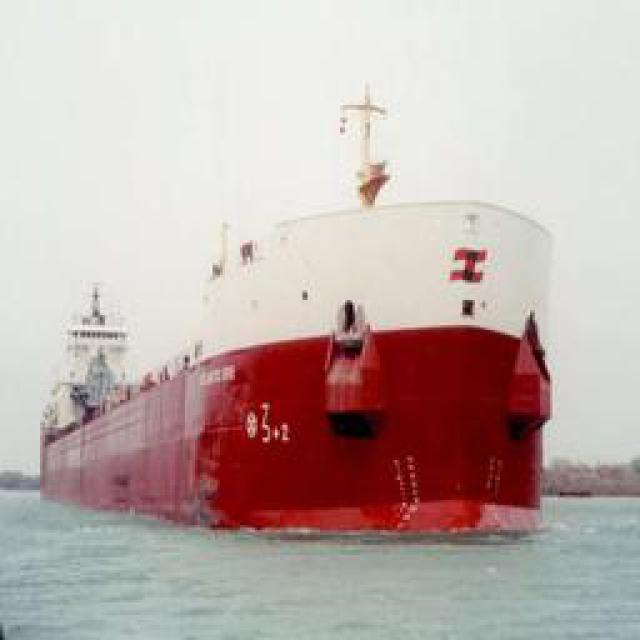Ship: (29, 76, 573, 552)
